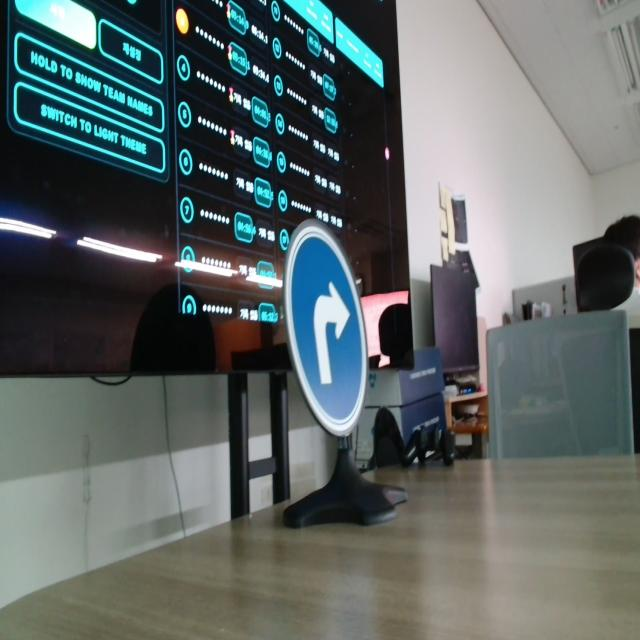right_dierection: (281, 214, 372, 436)
